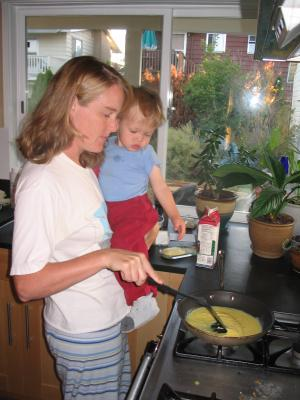person: (12, 58, 162, 400)
